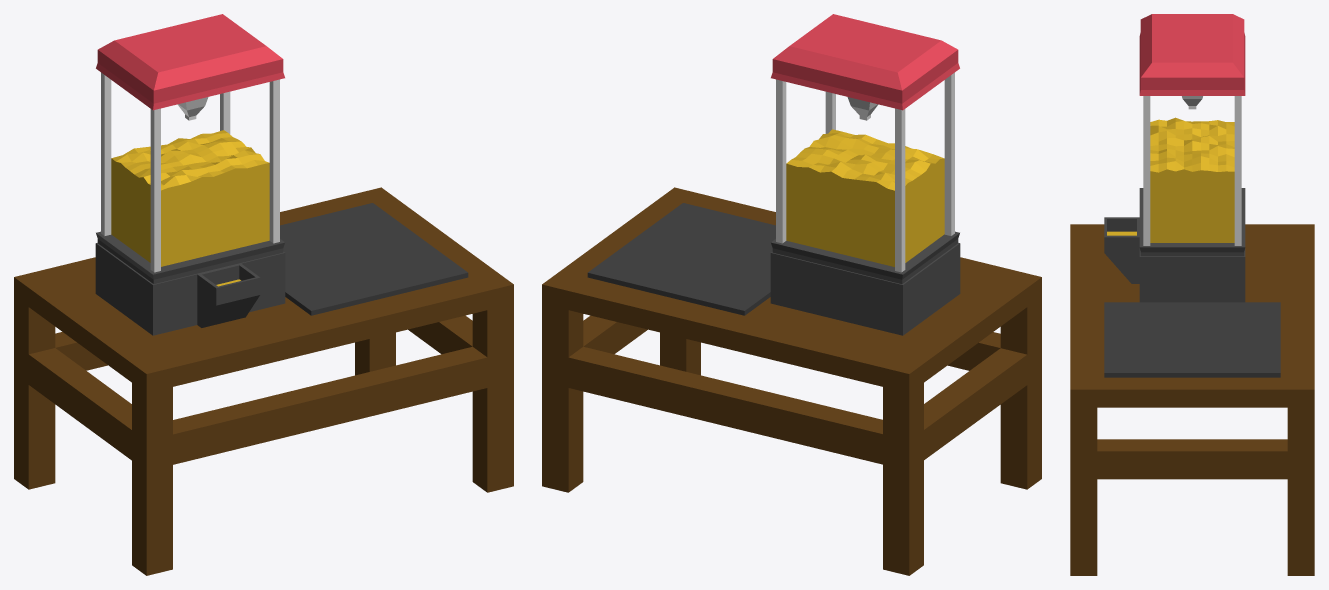
The model's file is popcorn_machine_workspace.fbx.
3 views of the same model, side by side, from view 1: azimuth 30°, elevation 25°; view 2: azimuth 150°, elevation 25°; view 3: azimuth 270°, elevation 25° (orthographic). The views are drawn at different scales.
Parts seen in each view (by area): view 1: table, popcorn_machine, pop_t3, pop_t2; view 2: table, popcorn_machine, pop_t3, pop_t2; view 3: table, popcorn_machine, pop_t3, pop_t2, pop_t1.
Part boxes in pixels (x1,y1,x2,y2): table: (14, 187, 513, 575); popcorn_machine: (95, 14, 285, 335); pop_t3: (111, 130, 269, 266); pop_t2: (111, 193, 269, 266); table: (542, 187, 1041, 575); popcorn_machine: (770, 14, 960, 335); pop_t3: (786, 129, 944, 266); pop_t2: (786, 193, 944, 266); table: (1070, 224, 1314, 575); popcorn_machine: (1104, 14, 1245, 302); pop_t3: (1150, 117, 1234, 242); pop_t2: (1150, 201, 1234, 242); pop_t1: (1150, 233, 1234, 242).
Size of the model in its own units: 800 by 951 by 500.
